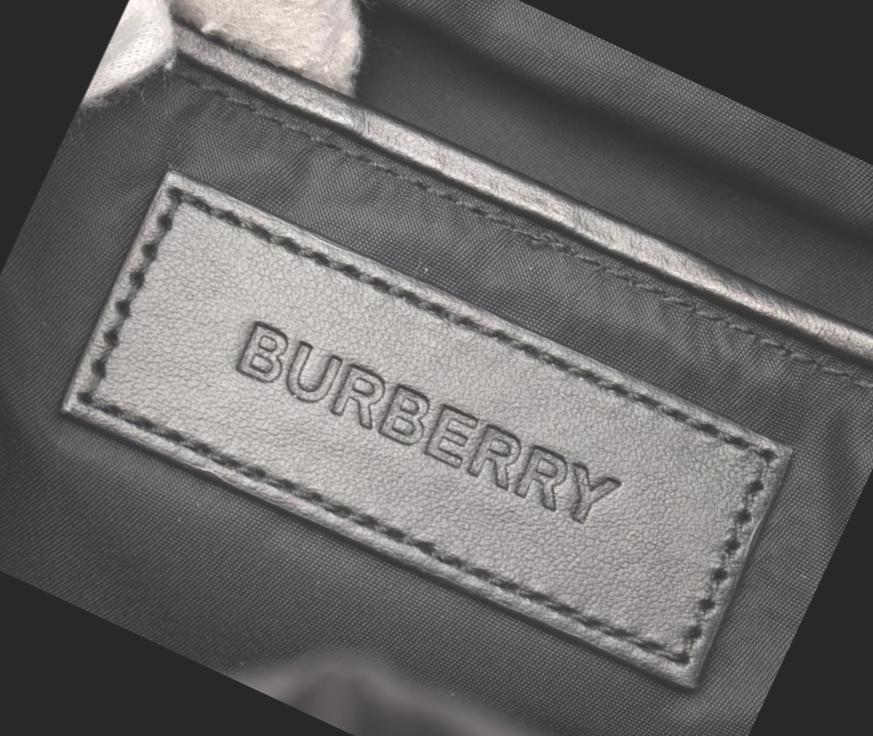BURBERRY: (230, 312, 622, 538)
